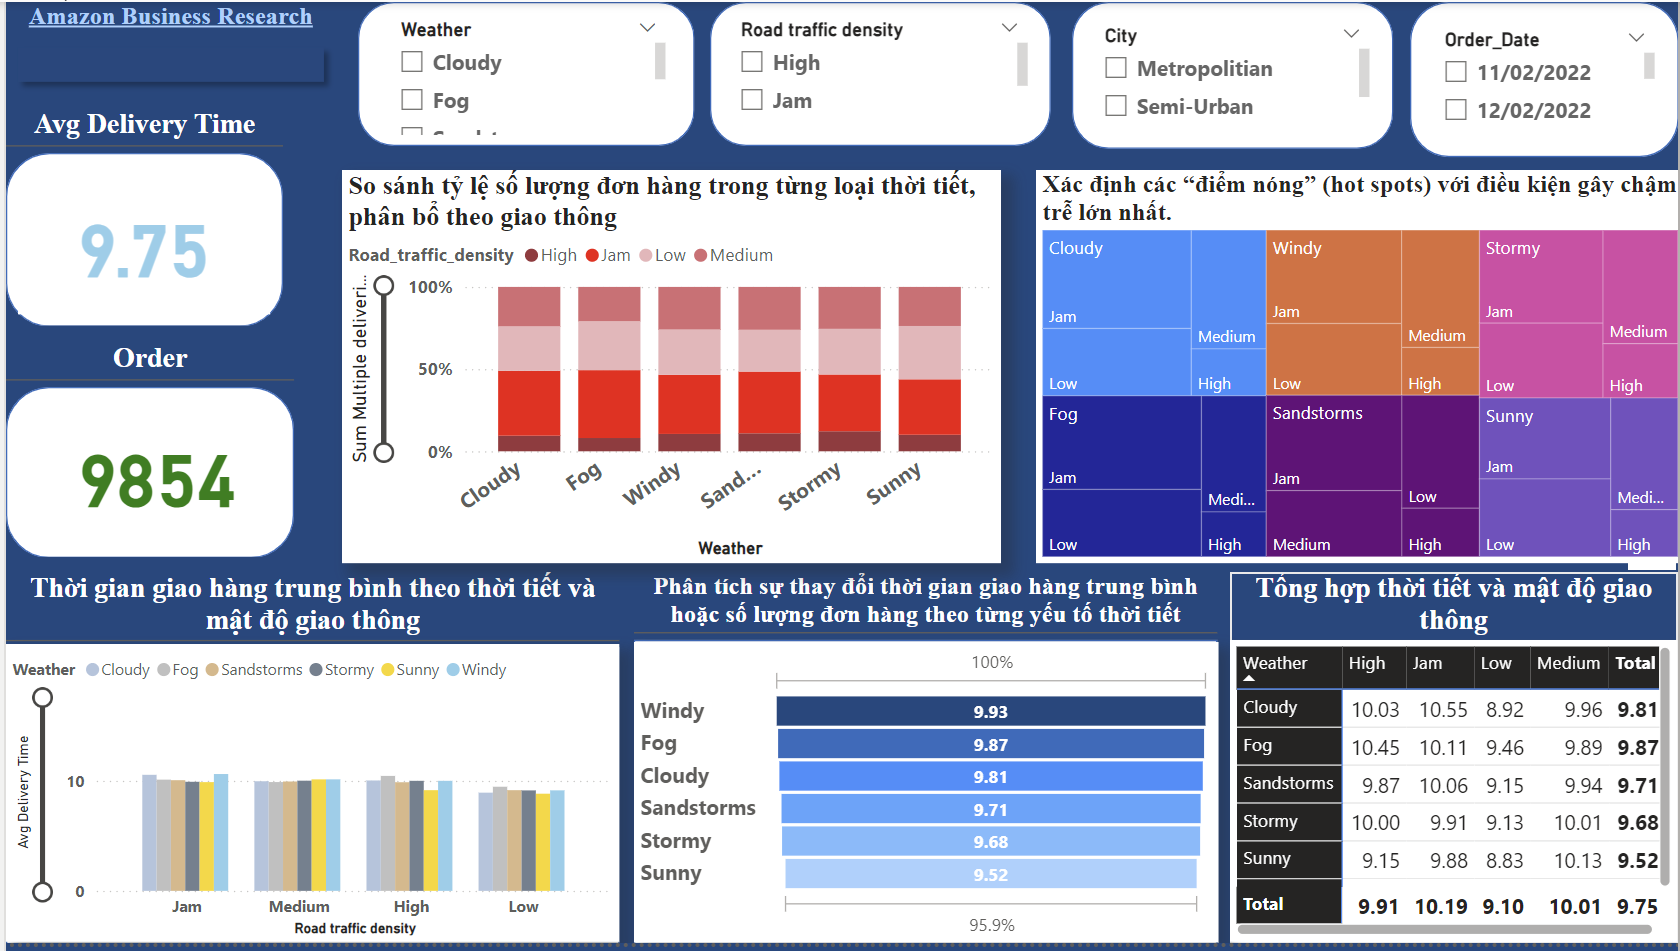

The page's visual inventory and layout, read from the dashboard file:
{"tool":"powerbi","page":{"name":"Weather and Traffic","canvas":[1280,720],"ordinal":1},"visuals":[{"type":"shape","title":"Amazon Business Research","box":[0,0,252.4,70],"z":0},{"type":"shape","title":"Avg Delivery Time","box":[0,81.6,212.1,166.5],"z":1000},{"type":"shape","title":"Thời gian giao hàng trung bình theo thời tiết và mật độ giao thông","box":[0,435.8,469.7,284.2],"z":2000},{"type":"shape","title":"Phân tích sự thay đổi thời gian giao hàng trung bình hoặc số lượng đơn hàng theo từng yếu tố thời tiết","box":[480.4,435.8,446.4,284.2],"z":3000},{"type":"shape","title":"Tổng hợp thời tiết và mật độ giao thông","box":[937.4,435.8,342.5,285.2],"z":4000},{"type":"shape","box":[1074.2,0,205.7,118.8],"z":5000},{"type":"shape","box":[269.3,0,257.7,110.3],"z":6000},{"type":"shape","box":[538.7,0,260.9,110.3],"z":7000},{"type":"slicer","fields":{"Values":["Order Information.Weather"]},"box":[289.5,7.4,220.6,98.6],"z":8000},{"type":"slicer","fields":{"Values":["Order Information.Road_traffic_density"]},"box":[550.3,7.4,237.5,91.2],"z":9000},{"type":"shape","box":[816.5,0,246,112.4],"z":10000},{"type":"shape","title":"Order","box":[0,260.9,220.6,164.4],"z":11000},{"type":"card","fields":{"Values":["CountNonNull(Delivery Information.multiple_deliveries)"]},"box":[29.7,302.2,172.8,116.6],"z":12000},{"type":"card","fields":{"Values":["Order Information.Avg Delivery Time"]},"box":[9.5,128.3,193,110.3],"z":13000},{"type":"slicer","fields":{"Values":["Order Information.City"]},"box":[828.2,12.7,220.6,85.9],"z":14000},{"type":"clusteredColumnChart","fields":{"Category":["Order Information.Road_traffic_density"],"Y":["Order Information.Avg Delivery Time"],"Series":["Order Information.Weather"]},"box":[0,492,469.7,228],"z":15000},{"type":"funnel","fields":{"Category":["Order Information.Weather"],"Y":["Order Information.Avg Delivery Time"]},"box":[480.4,489.9,447.5,230.1],"z":16000},{"type":"pivotTable","fields":{"Rows":["Order Information.Weather"],"Columns":["Order Information.Road_traffic_density"],"Values":["Order Information.Avg Delivery Time"]},"box":[937.4,488.8,342.5,231.2],"z":17000},{"type":"treemap","title":"Xác định các “điểm nóng” (hot spots) với điều kiện gây chậm trễ lớn nhất.","fields":{"Group":["Order Information.Weather"],"Details":["Order Information.Road_traffic_density"],"Values":["Sum(Delivery Information.multiple_deliveries)"]},"box":[787.8,128.3,496.4,301.2],"z":18000},{"type":"hundredPercentStackedColumnChart","title":"So sánh tỷ lệ số lượng đơn hàng trong từng loại thời tiết, phân bổ theo giao thông","fields":{"Category":["Order Information.Weather"],"Y":["Sum(Delivery Information.multiple_deliveries)"],"Series":["Order Information.Road_traffic_density"]},"box":[258,128.3,504.7,301.2],"z":19000},{"type":"slicer","fields":{"Values":["Order Information.Order_Date"]},"box":[1089,15.3,178.5,89.2],"z":20000}]}

Visuals, with their boxes in screenshot pixels (x1, y1, x2, y2), scaled from the page's 1280x720 canvas onto the 1680x951 screenshot:
"Amazon Business Research" shape: x1=0 y1=0 x2=331 y2=92
"Avg Delivery Time" shape: x1=0 y1=108 x2=278 y2=328
"Thời gian giao hàng trung bình theo thời tiết và mật độ giao thông" shape: x1=0 y1=576 x2=616 y2=950
"Phân tích sự thay đổi thời gian giao hàng trung bình hoặc số lượng đơn hàng theo từng yếu tố thời tiết" shape: x1=631 y1=576 x2=1216 y2=950
"Tổng hợp thời tiết và mật độ giao thông" shape: x1=1230 y1=576 x2=1679 y2=950
shape: x1=1410 y1=0 x2=1679 y2=157
shape: x1=353 y1=0 x2=692 y2=146
shape: x1=707 y1=0 x2=1049 y2=146
slicer - Order Information.Weather: x1=380 y1=10 x2=670 y2=140
slicer - Order Information.Road_traffic_density: x1=722 y1=10 x2=1034 y2=130
shape: x1=1072 y1=0 x2=1395 y2=148
"Order" shape: x1=0 y1=345 x2=290 y2=562
card - CountNonNull(Delivery Information.multiple_deliveries): x1=39 y1=399 x2=266 y2=553
card - Order Information.Avg Delivery Time: x1=12 y1=169 x2=266 y2=315
slicer - Order Information.City: x1=1087 y1=17 x2=1377 y2=130
clusteredColumnChart - Order Information.Road_traffic_density x Order Information.Avg Delivery Time: x1=0 y1=650 x2=616 y2=950
funnel - Order Information.Weather x Order Information.Avg Delivery Time: x1=631 y1=647 x2=1218 y2=950
pivotTable - Order Information.Weather x Order Information.Road_traffic_density: x1=1230 y1=646 x2=1679 y2=950
"Xác định các “điểm nóng” (hot spots) với điều kiện gây chậm trễ lớn nhất." treemap: x1=1034 y1=169 x2=1679 y2=567
"So sánh tỷ lệ số lượng đơn hàng trong từng loại thời tiết, phân bổ theo giao thông" hundredPercentStackedColumnChart: x1=339 y1=169 x2=1001 y2=567
slicer - Order Information.Order_Date: x1=1429 y1=20 x2=1664 y2=138
